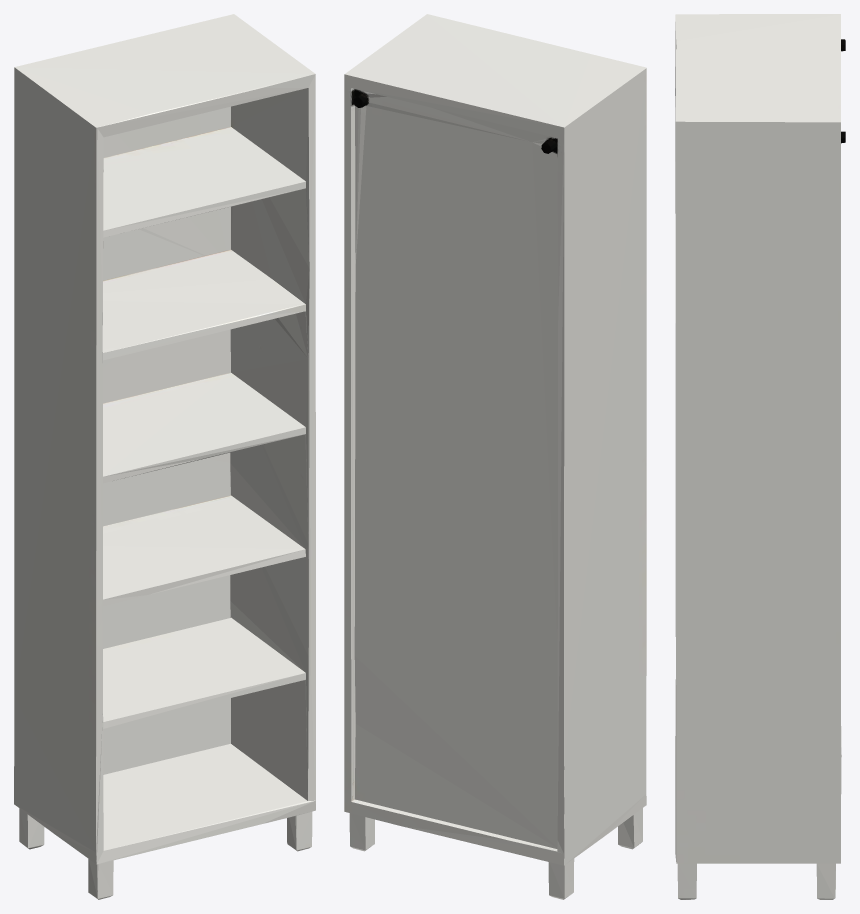
The picture shows the model from 3 angles, left to right: view 1: azimuth 30°, elevation 25°; view 2: azimuth 150°, elevation 25°; view 3: azimuth 270°, elevation 25°; orthographic projection.
Visible parts, largest first — view 1: ProcessedGeometry; view 2: ProcessedGeometry; view 3: ProcessedGeometry.
Part boxes in pixels (left/top/right/bottom): ProcessedGeometry: left=14, top=14, right=315, bottom=899; ProcessedGeometry: left=344, top=14, right=646, bottom=899; ProcessedGeometry: left=675, top=14, right=845, bottom=899.
Size of the model in its own units: 0.6 by 2.02 by 0.4.
1 material, 1 textured.
